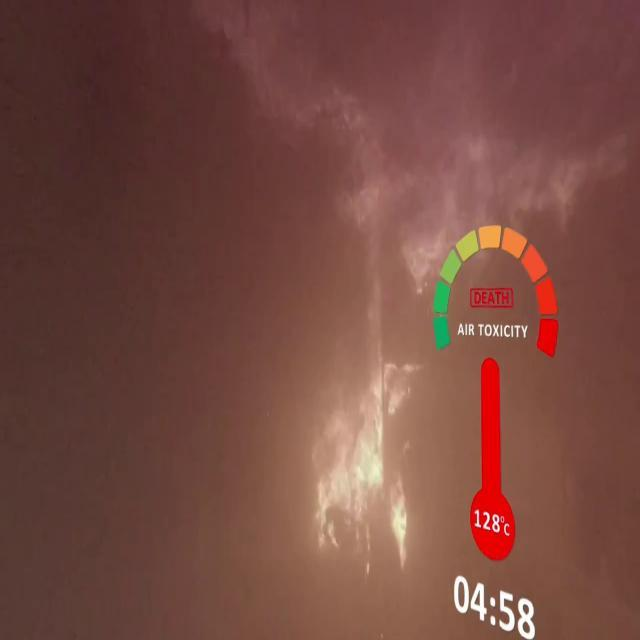Fire: (294, 317, 438, 563)
Smoke: (0, 0, 252, 631), (281, 0, 640, 212), (520, 358, 640, 639)
